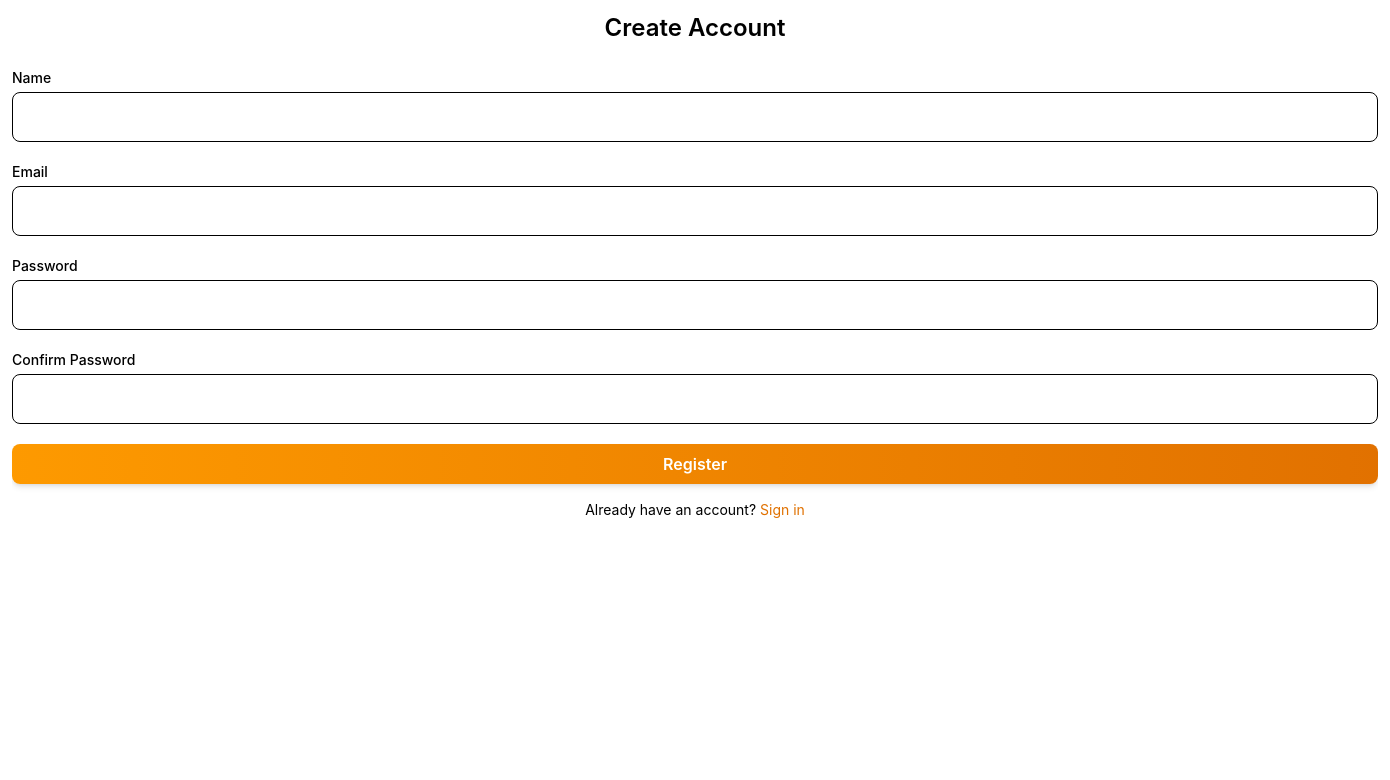
Test: Register › Form validation › shows error for password shorter than 6 characters
The width and height of the screenshot is (1390, 780).
Type "123" into the password field labelled "Password".
click(695, 305); type("123")  # box x1=12 y1=280 x2=1378 y2=330
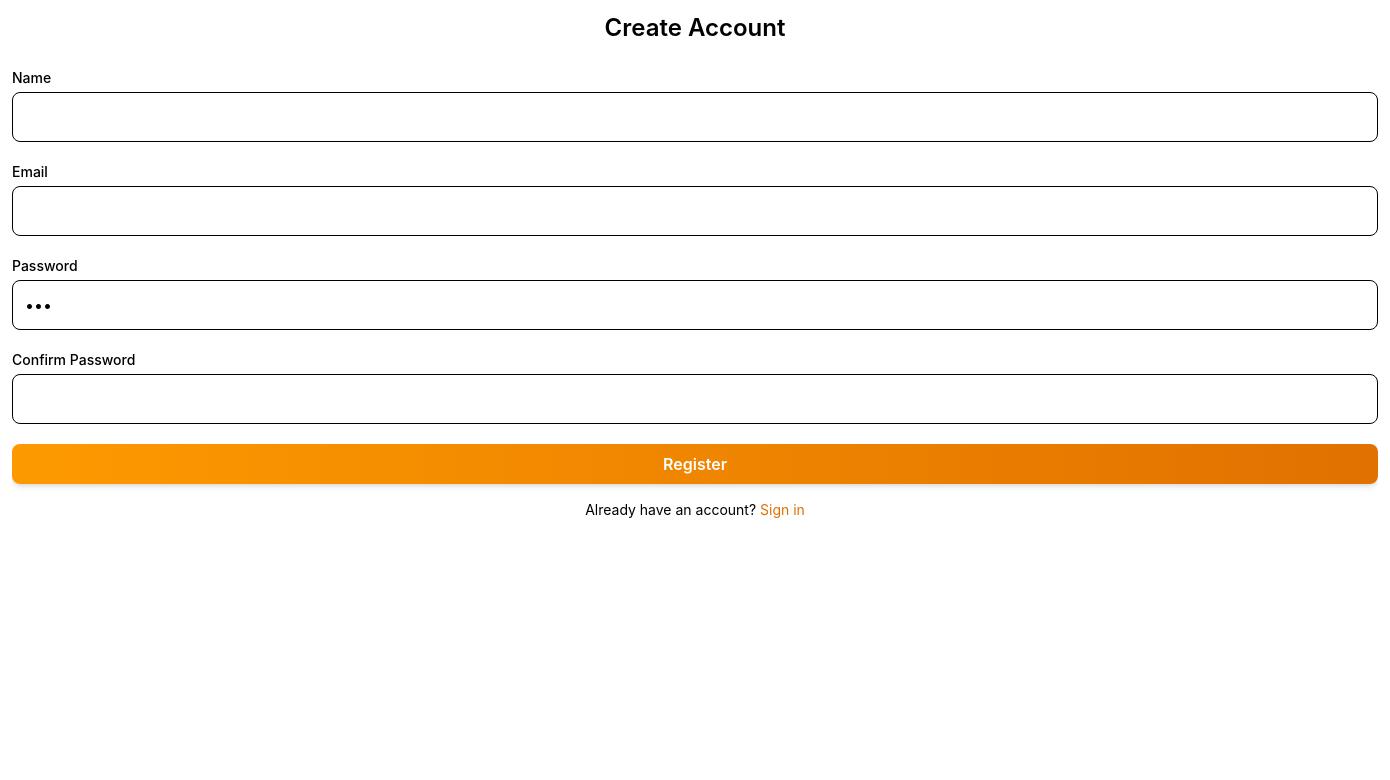
Click the button "Register".
click(695, 464)  # box x1=12 y1=444 x2=1378 y2=484
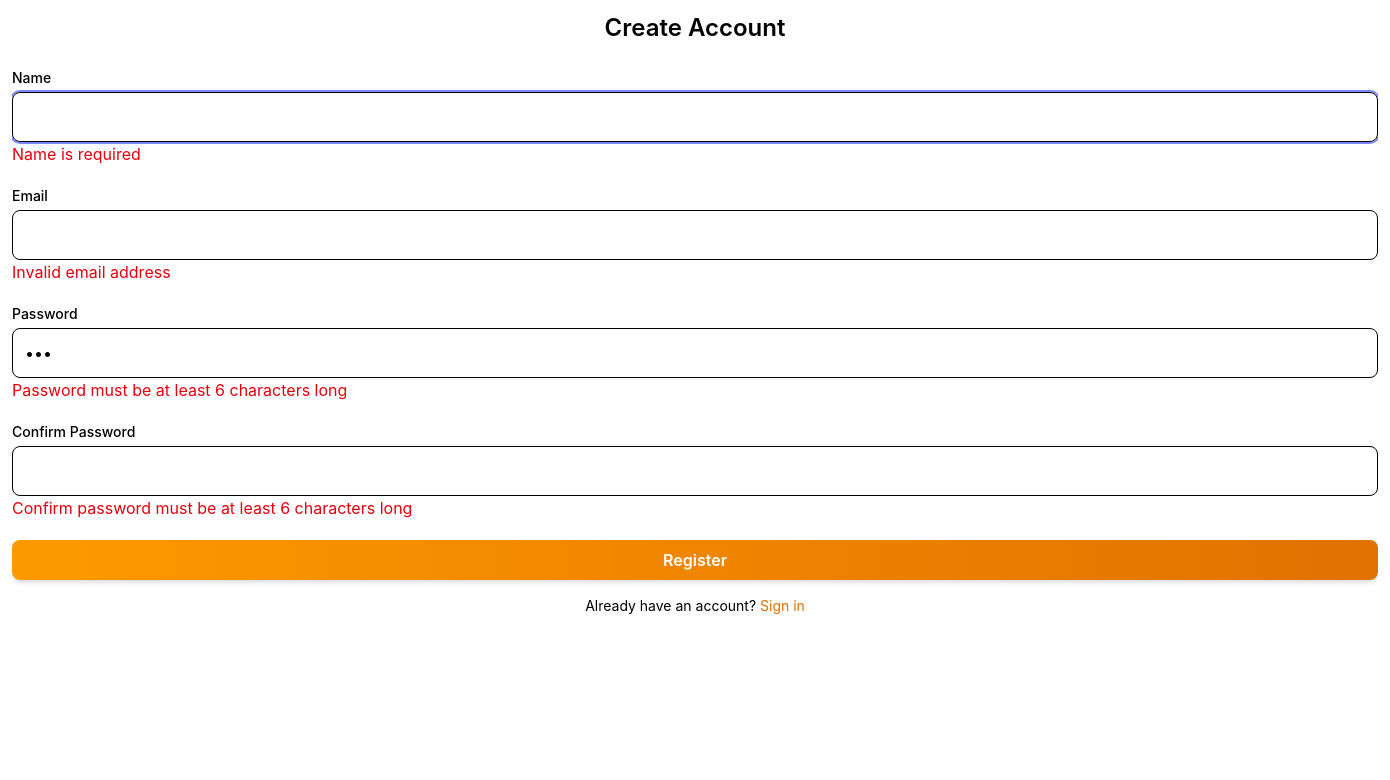
expect the text "Password must be at least 6 characters long" is shown: met, box x1=12 y1=380 x2=347 y2=400
